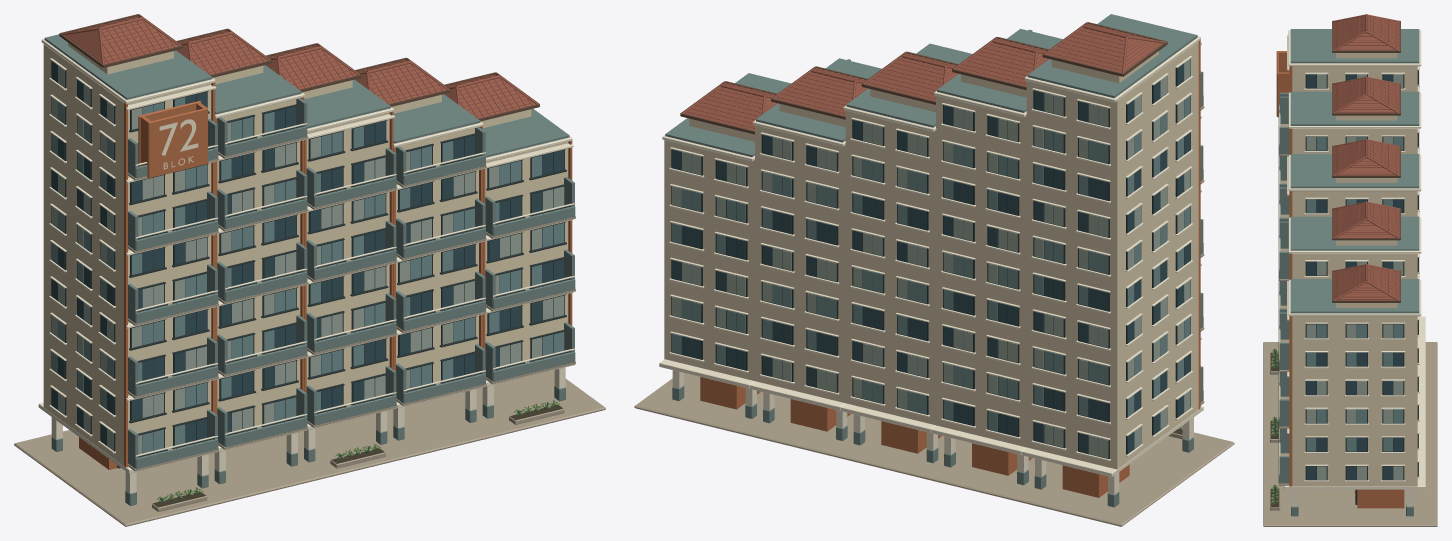
3 renders of one model, left to right at view 1: azimuth 30°, elevation 25°; view 2: azimuth 150°, elevation 25°; view 3: azimuth 270°, elevation 25°, orthographic. The views are drawn at different scales.
Visible parts, largest first — view 1: Casements and sills, Staggered residential bays, Paired maisonette loggias, Void deck and lift lobby, Roof covering, Eave fascia, Garden beds, Pandan planting; view 2: Staggered residential bays, Casements and sills, Void deck and lift lobby, Roof covering, Eave fascia, Paired maisonette loggias; view 3: Staggered residential bays, Void deck and lift lobby, Casements and sills, Roof covering, Paired maisonette loggias, Eave fascia, Garden beds, Pandan planting.
Boxes of the visible parts, x1,y1,x2,y2 form: Casements and sills: (49, 58, 566, 457); Staggered residential bays: (41, 34, 572, 467); Paired maisonette loggias: (126, 85, 575, 471); Void deck and lift lobby: (14, 101, 605, 526); Roof covering: (60, 14, 538, 118); Eave fascia: (59, 14, 539, 121); Garden beds: (152, 405, 564, 511); Pandan planting: (156, 400, 559, 503); Staggered residential bays: (662, 14, 1200, 469); Casements and sills: (669, 56, 1192, 461); Void deck and lift lobby: (634, 359, 1234, 526); Roof covering: (681, 22, 1166, 130); Eave fascia: (680, 22, 1167, 134); Paired maisonette loggias: (847, 29, 1204, 405); Staggered residential bays: (1288, 29, 1421, 486); Void deck and lift lobby: (1263, 51, 1437, 526); Casements and sills: (1304, 66, 1419, 481); Roof covering: (1332, 14, 1400, 300); Paired maisonette loggias: (1278, 35, 1289, 485); Eave fascia: (1332, 20, 1400, 302); Garden beds: (1270, 352, 1280, 510); Pandan planting: (1270, 348, 1279, 504).
Size of the model in its own units: 38.8 by 34.03 by 15.6.
